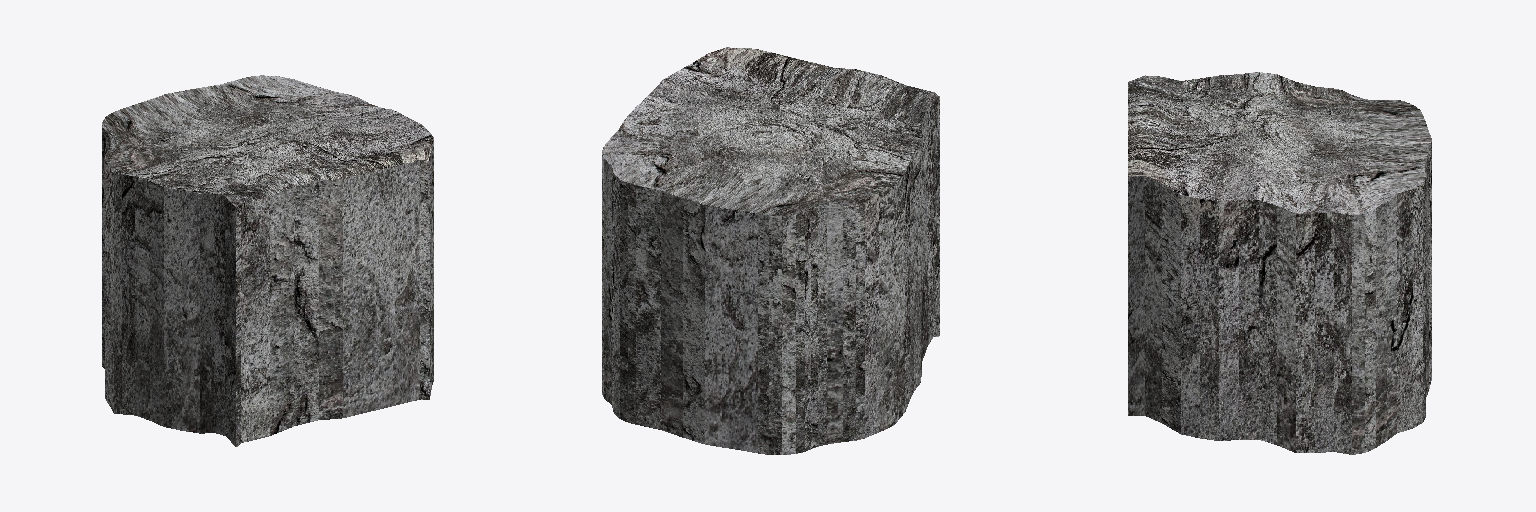
3 renders of one model, left to right at view 1: azimuth 30°, elevation 25°; view 2: azimuth 150°, elevation 25°; view 3: azimuth 270°, elevation 25°, orthographic.
Size of the model in its own units: 128 by 123 by 124.
Materials: 1 (1 with a texture image).